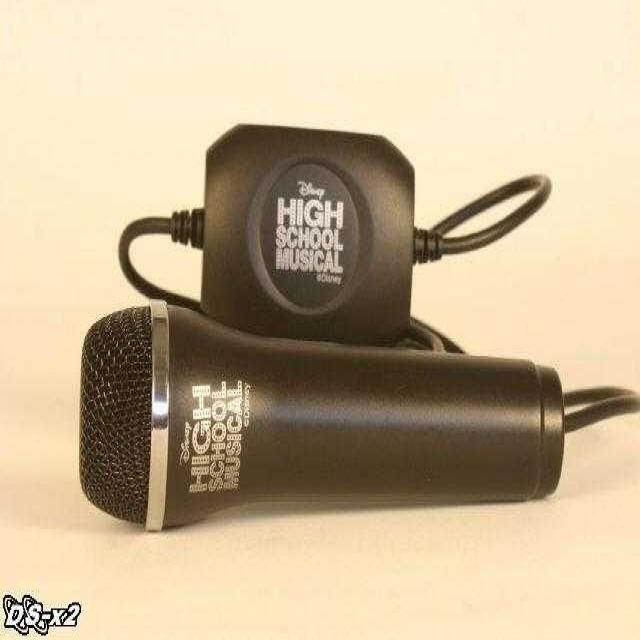microphone: (80, 295, 601, 529)
